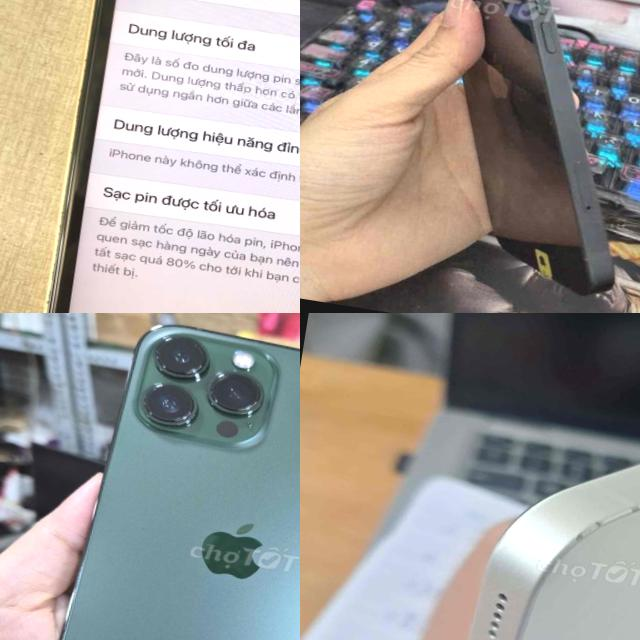scratch: (571, 515, 614, 554), (613, 500, 640, 528)
